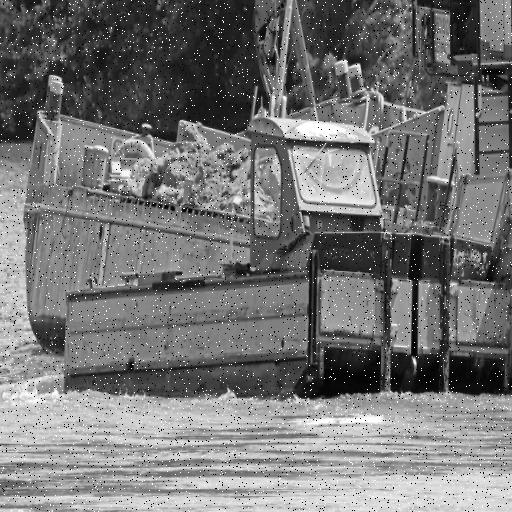tugboat: (59, 108, 512, 407)
